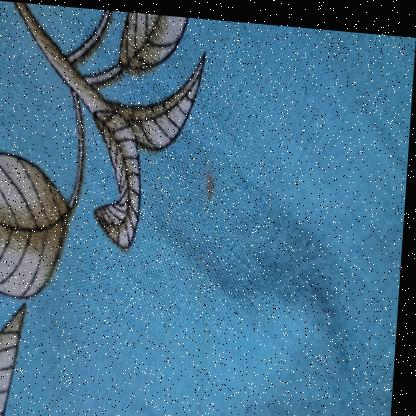spot: (191, 151, 225, 213)
